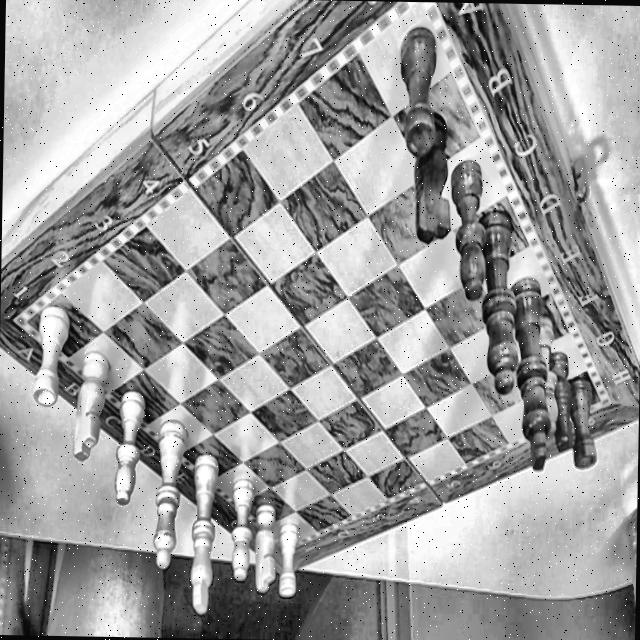white-bishop: (112, 376, 147, 510), (227, 463, 253, 578)
white-king: (184, 414, 215, 624)
white-knight: (76, 336, 104, 471), (255, 500, 275, 592)
white-queen: (152, 406, 184, 570)
white-rook: (17, 282, 73, 419), (274, 526, 310, 608)
